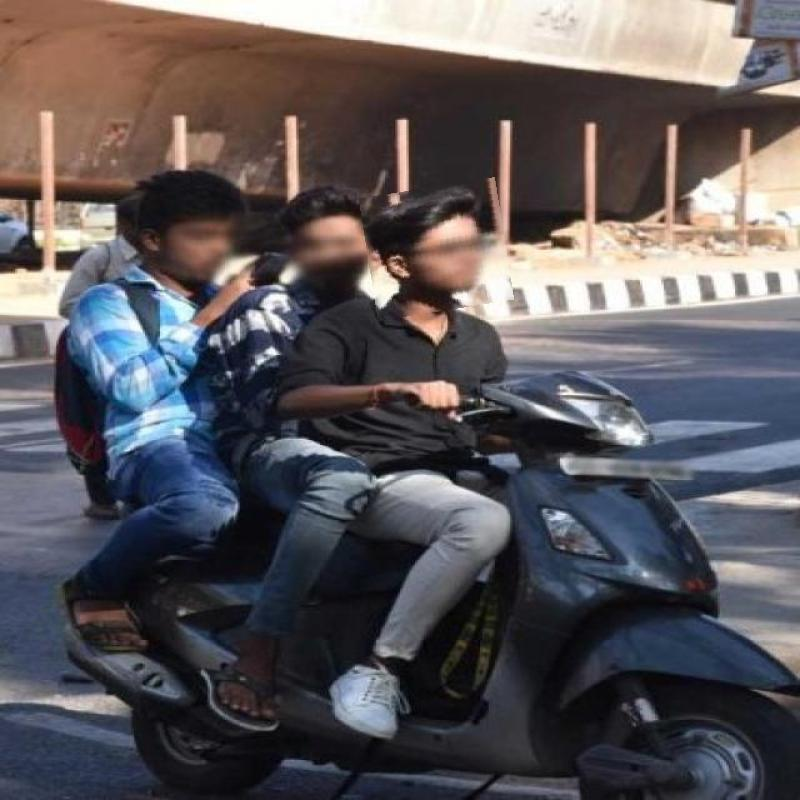nohelmet: (364, 182, 510, 316)
